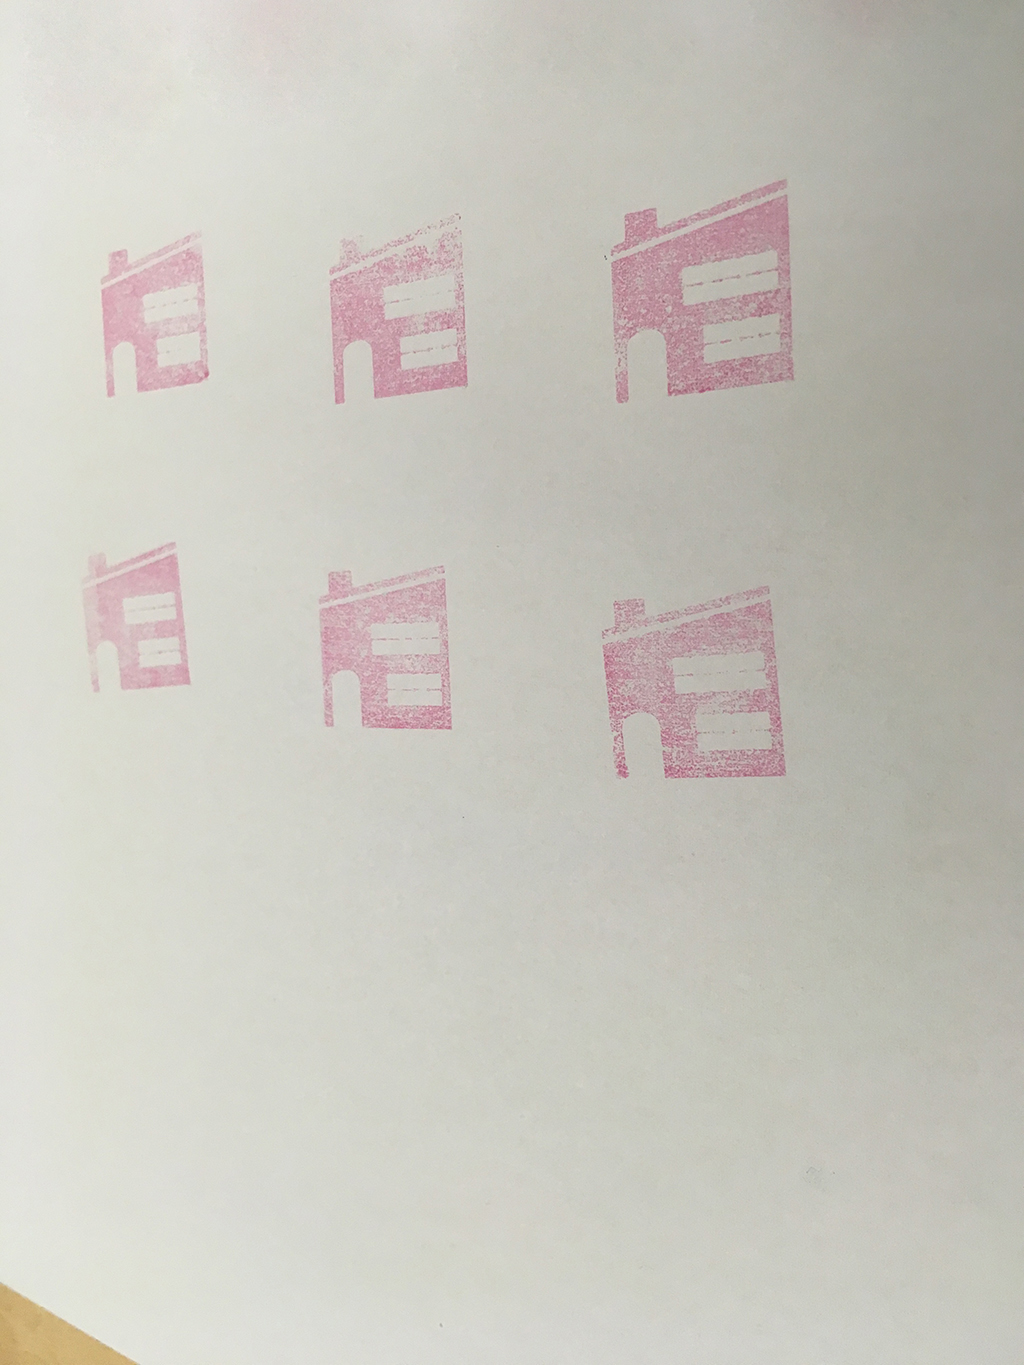house: (586, 165, 816, 420), (585, 575, 806, 796), (308, 207, 502, 423), (300, 550, 470, 747), (63, 513, 208, 711), (90, 227, 225, 423)
